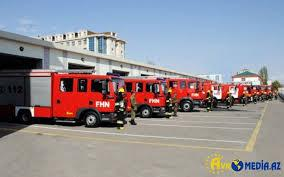Fire-engine: (0, 73, 127, 124), (127, 80, 172, 116)
